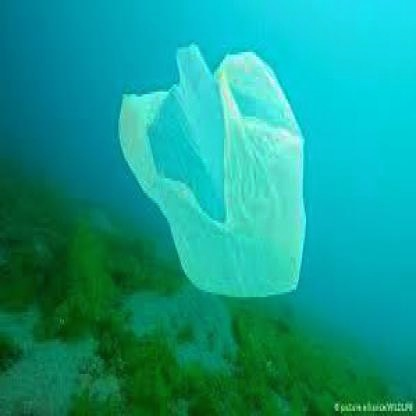pbag: (117, 42, 306, 297)
